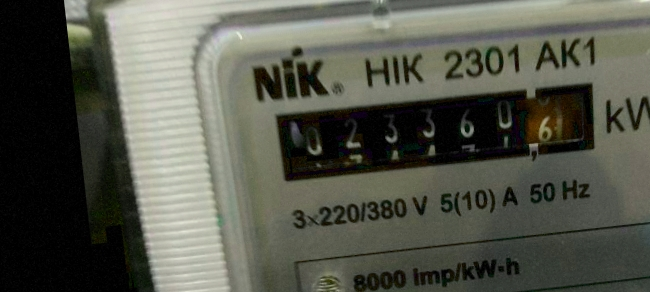0: (490, 94, 516, 132), (299, 120, 324, 157)
2: (338, 113, 363, 151)
3: (377, 109, 401, 146), (416, 104, 437, 140)
6: (453, 103, 476, 139), (532, 109, 553, 144)
screen: (259, 64, 619, 202)
